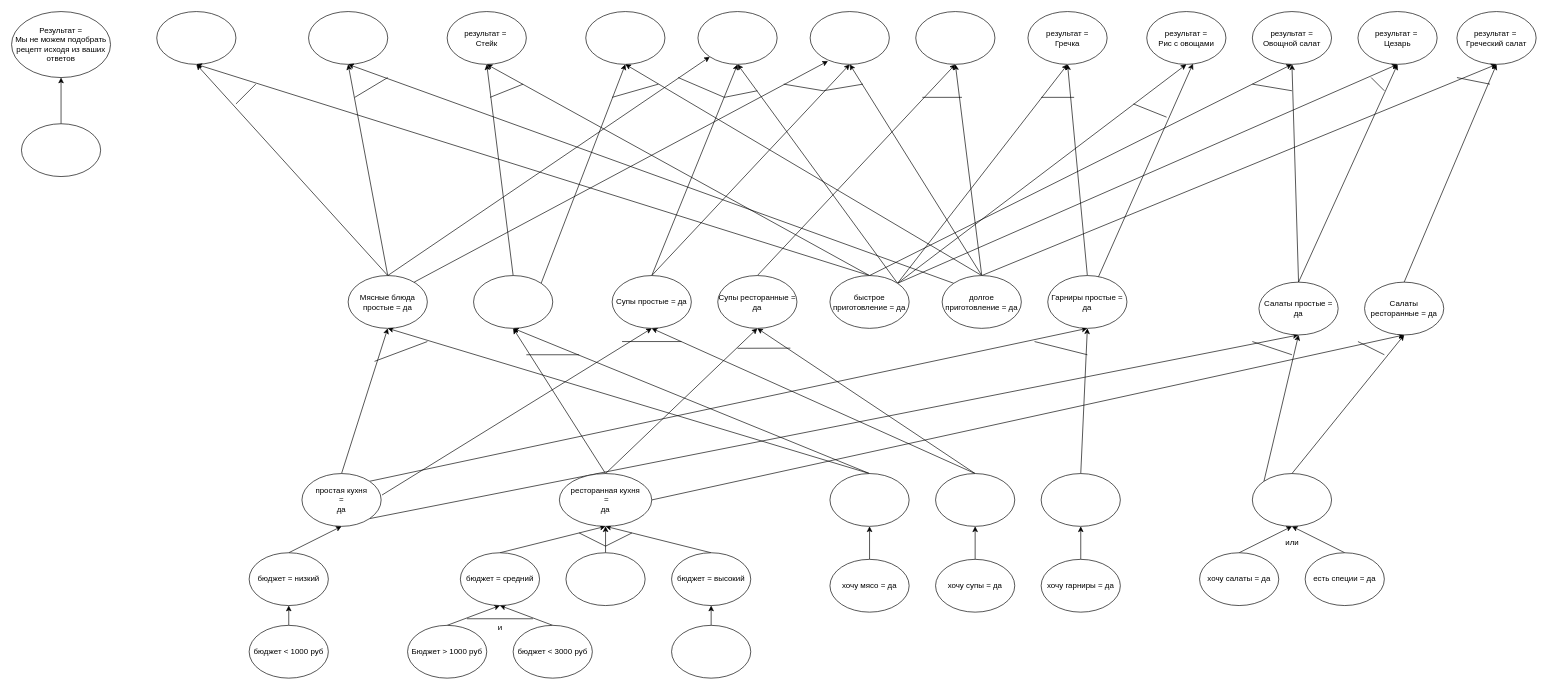
Some shapes in this 1548 by 690 pixel diagram are drawn without their labels. Each missing label, with the centre of its shape:
бюджет > 3000 руб: the point at 711,651
Все задаваемые вопросы (с первогоуровня) = нет: the point at 61,150
диетические ограничения = нет: the point at 605,579
доступны гарниры = да: the point at 1080,499
доступны мясные блюда = да: the point at 869,499
доступны салаты = да: the point at 1292,499
доступны супы = да: the point at 975,499
Мясные блюда ресторанные = да: the point at 513,301
результат = Борщ: the point at 849,37
результат = Гуляш: the point at 348,37
результат = Котлеты: the point at 196,37
результат = Куриный суп: the point at 737,37
результат = Том-ям: the point at 955,37
результат = Утка по-пекински: the point at 625,37
